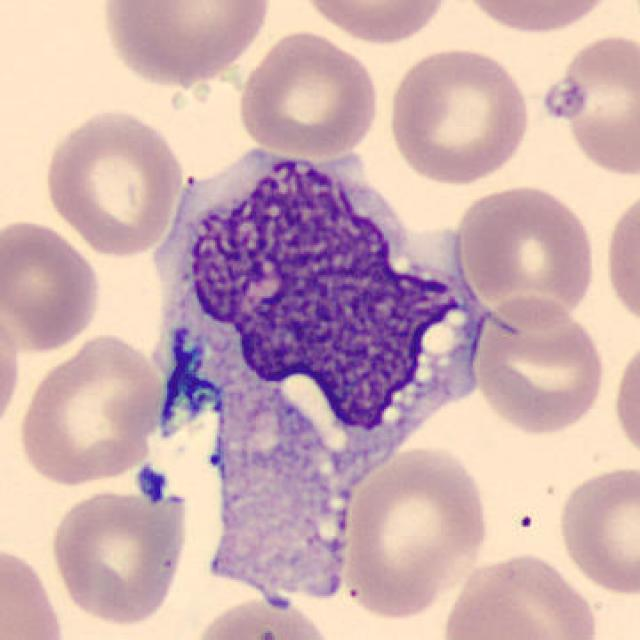Monocyte: (138, 144, 508, 605)
Platelets: (538, 76, 588, 123), (133, 464, 171, 506)
RBC: (338, 442, 492, 622), (14, 330, 167, 488), (39, 104, 187, 259), (46, 480, 194, 628), (384, 42, 533, 187), (453, 180, 599, 326), (471, 294, 608, 438), (235, 27, 382, 158), (96, 0, 277, 88), (537, 32, 640, 184), (437, 548, 603, 640), (0, 215, 105, 354), (554, 462, 640, 598), (295, 0, 455, 48), (186, 594, 338, 640), (0, 539, 69, 640), (457, 0, 622, 37), (601, 183, 640, 337), (610, 333, 640, 469), (0, 298, 25, 441)
